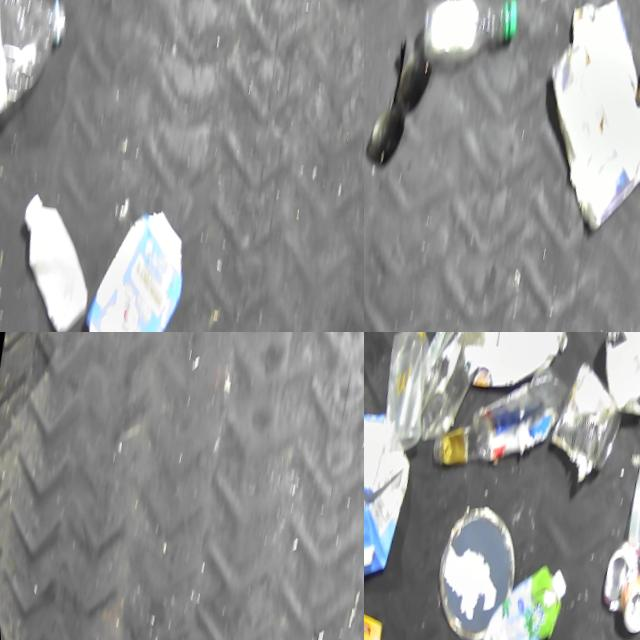can: (538, 358, 630, 479), (584, 538, 640, 639), (583, 332, 640, 424)
milk_jug: (364, 405, 419, 586), (449, 332, 578, 403)
non_white_jug: (58, 196, 197, 332), (462, 551, 569, 640)
plastic_bottle: (417, 346, 574, 489), (0, 0, 78, 161), (409, 0, 528, 86)
